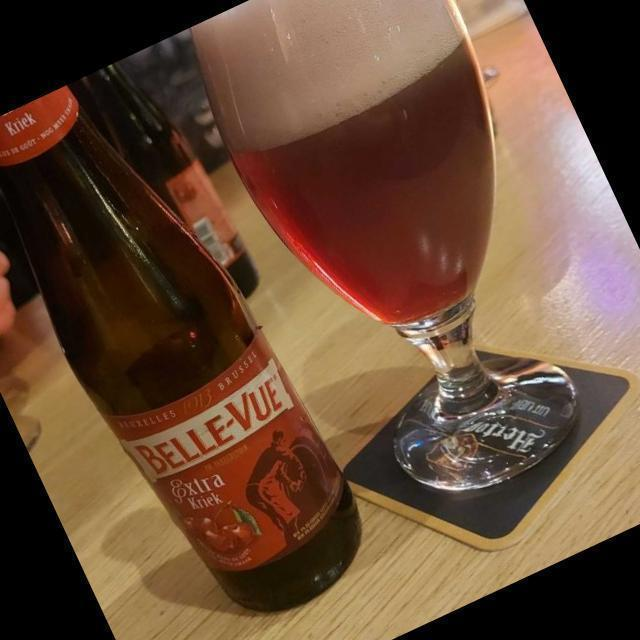BotolKaca: (0, 74, 363, 612)
